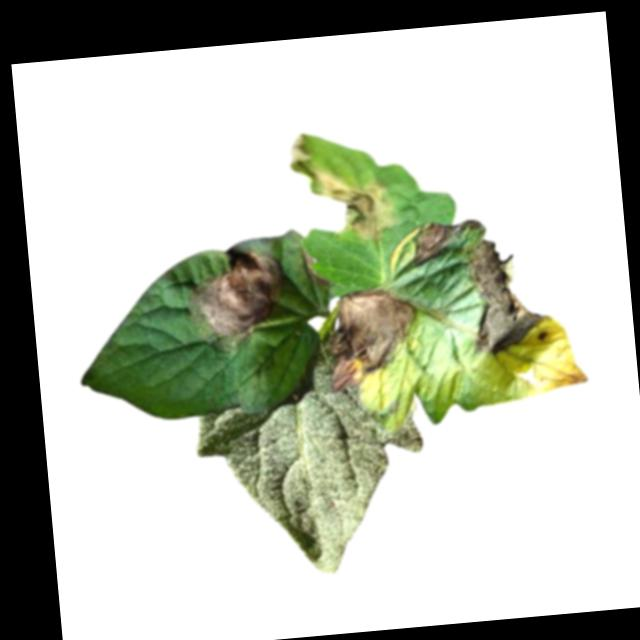Late_blight: (285, 124, 399, 252), (186, 247, 295, 355), (465, 234, 555, 359), (326, 286, 428, 392), (410, 216, 486, 268), (302, 248, 331, 292)
